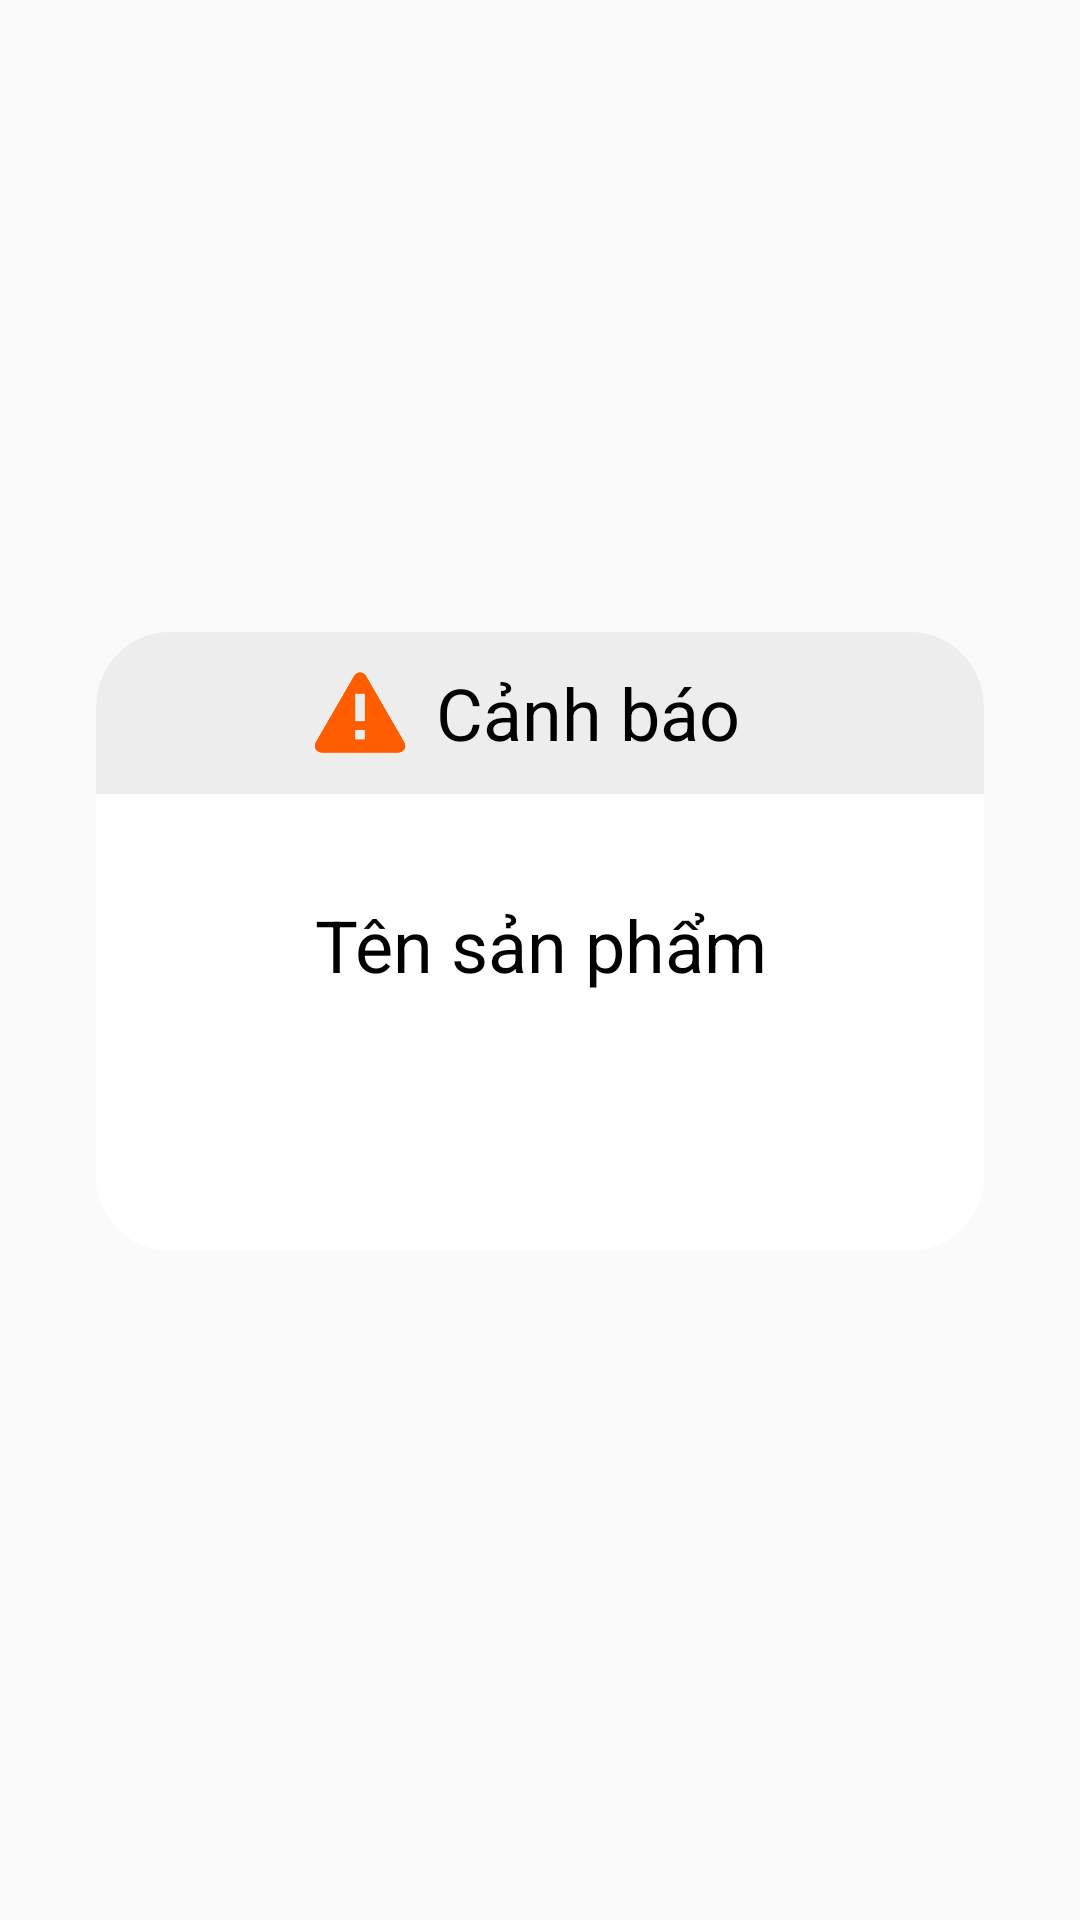

Icon click points for this 1080w x 1920h phone screenshot, format (x,y):
warning: (360,712)
